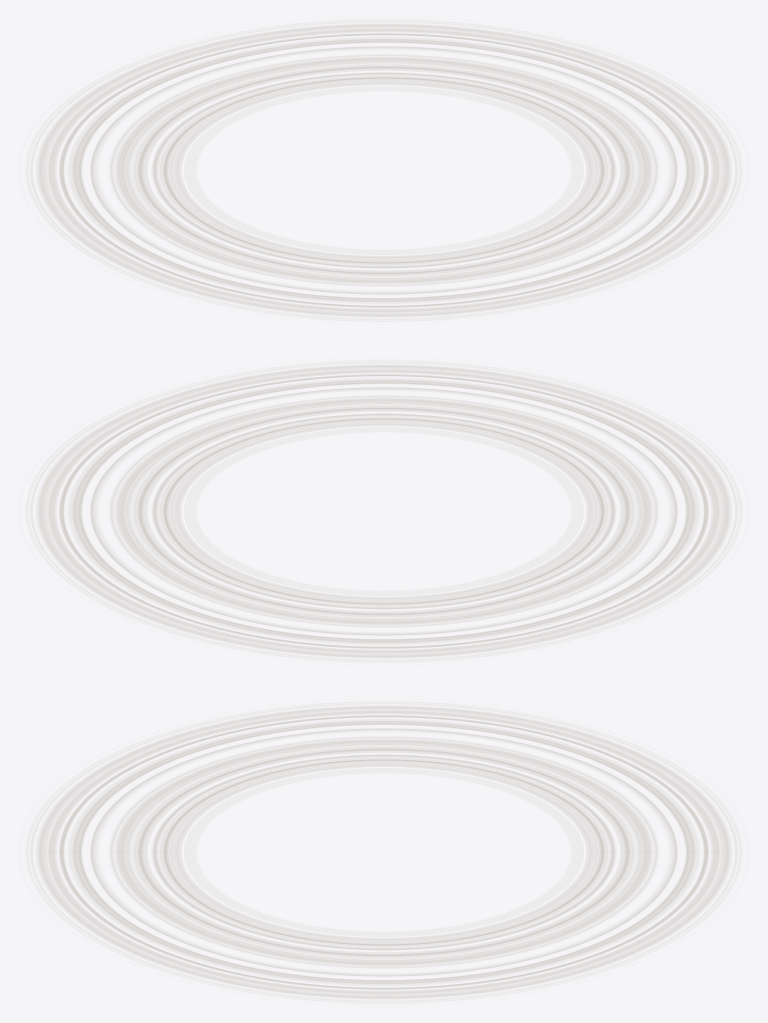
The model's file is ring_dust.glb.
The picture shows the model from 3 angles, top to bottom: view 1: azimuth 30°, elevation 25°; view 2: azimuth 150°, elevation 25°; view 3: azimuth 270°, elevation 25°; orthographic projection.
Parts seen in each view (by area): view 1: EXP_RingDust; view 2: EXP_RingDust; view 3: EXP_RingDust.
Boxes of the visible parts, left/top/right/bottom form: EXP_RingDust: left=31, top=21, right=736, bottom=319; EXP_RingDust: left=31, top=362, right=736, bottom=660; EXP_RingDust: left=26, top=703, right=741, bottom=1001.
Size of the model in its own units: 52 by 0 by 52.
1 material, 1 textured.
